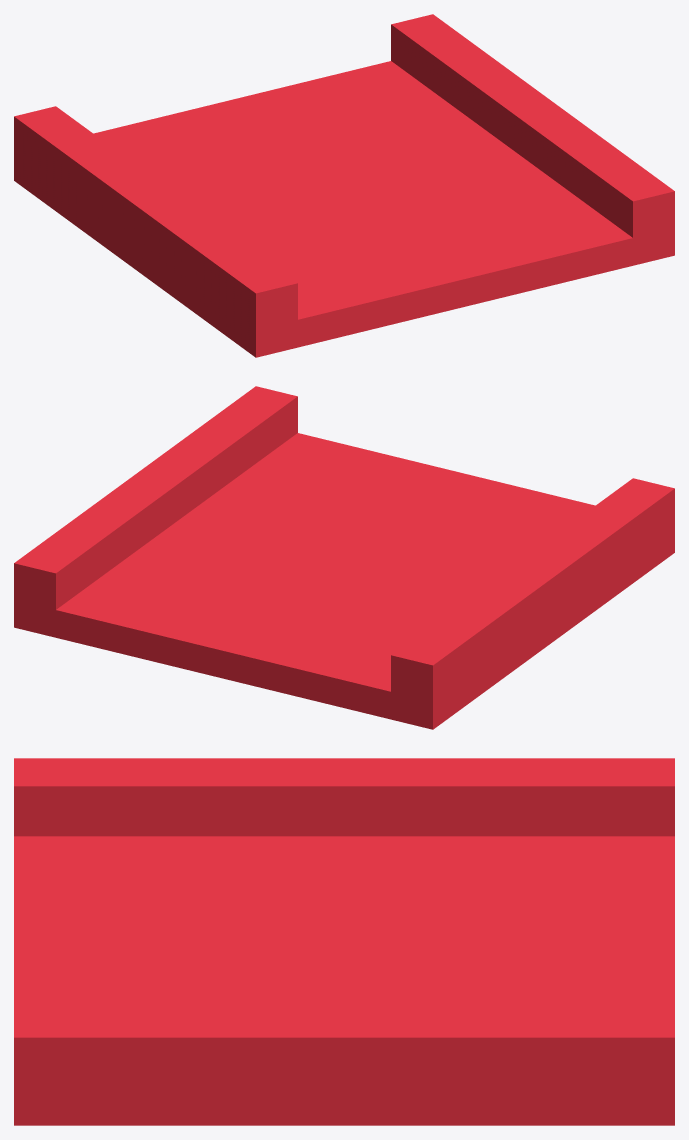
File: Straight.fbx
3 views of the same model, one above another, from view 1: azimuth 30°, elevation 25°; view 2: azimuth 150°, elevation 25°; view 3: azimuth 270°, elevation 25° (orthographic). The views are drawn at different scales.
Parts seen in each view (by area): view 1: StraightFloorMesh, StraightWallMesh; view 2: StraightFloorMesh, StraightWallMesh; view 3: StraightWallMesh, StraightFloorMesh.
Boxes of the visible parts, left/top/right/bottom form: StraightFloorMesh: left=93, top=61, right=632, bottom=347; StraightWallMesh: left=14, top=14, right=674, bottom=357; StraightFloorMesh: left=56, top=433, right=595, bottom=719; StraightWallMesh: left=14, top=386, right=674, bottom=729; StraightWallMesh: left=14, top=758, right=674, bottom=1125; StraightFloorMesh: left=14, top=836, right=674, bottom=1009.
Size of the model in its own units: 99.99 by 14.67 by 99.99.
